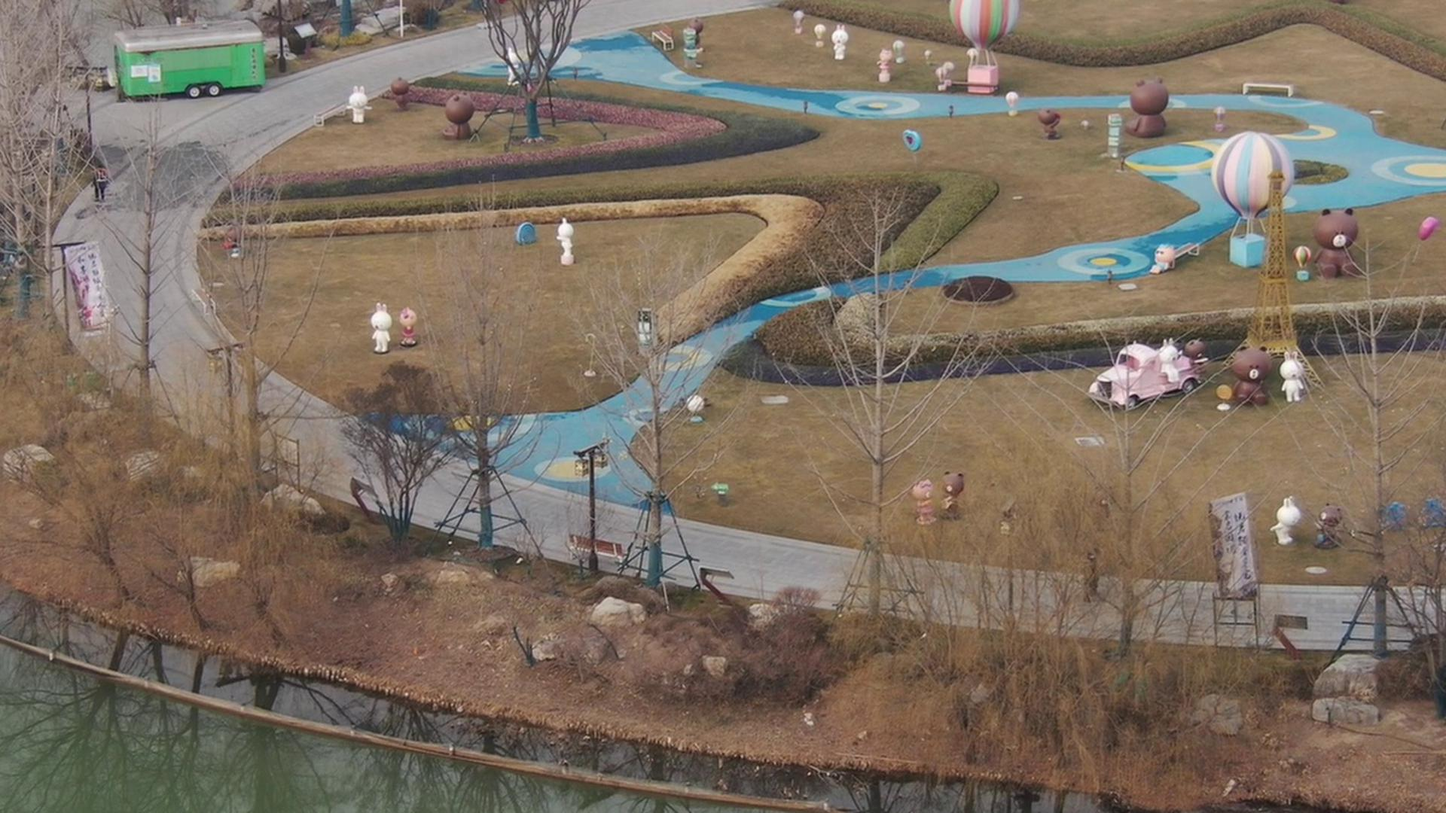class_2: (1075, 548, 1101, 607)
human: (91, 163, 117, 204)
